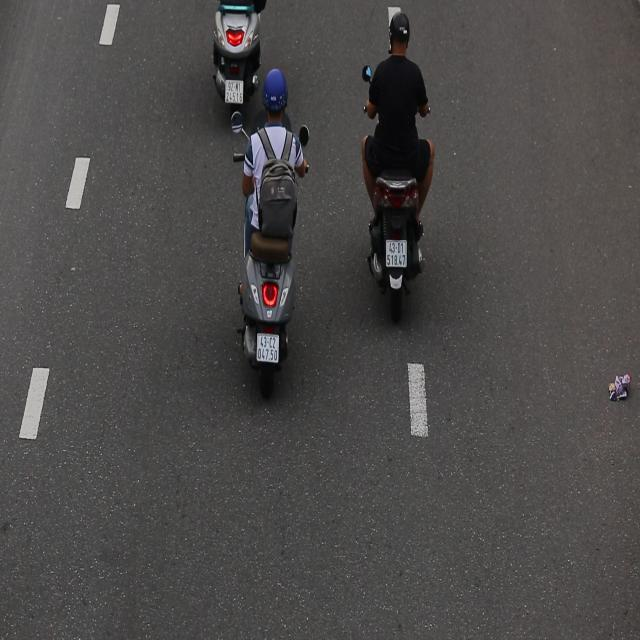motorbike: (229, 68, 317, 396), (354, 17, 438, 313)
